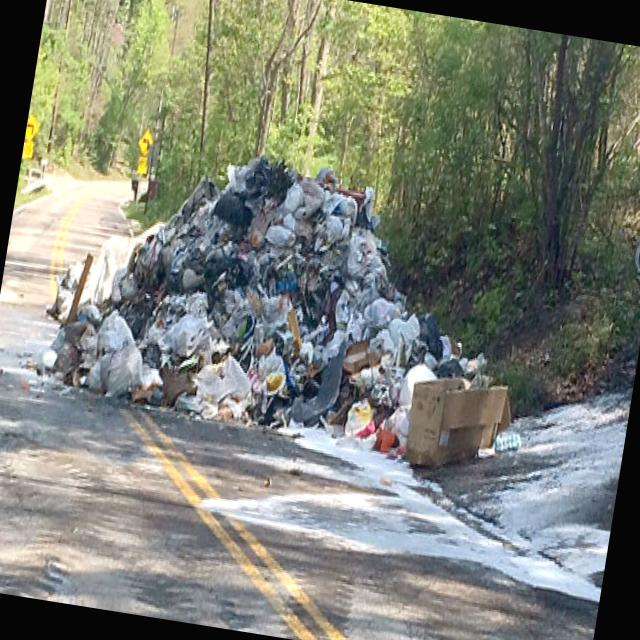garbage: (8, 118, 547, 484)
